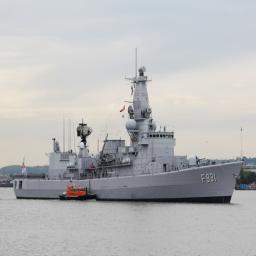Fragata: (14, 45, 246, 206)
